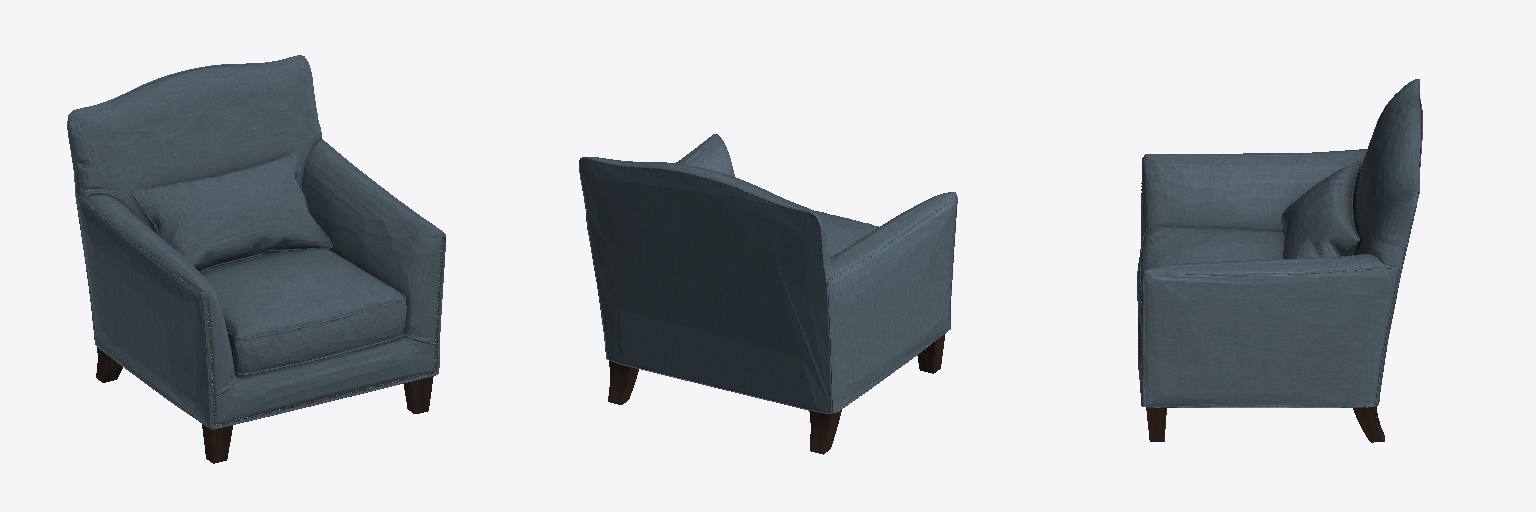
3 views of the same model, side by side, from view 1: azimuth 30°, elevation 25°; view 2: azimuth 150°, elevation 25°; view 3: azimuth 270°, elevation 25° (orthographic).
Visible parts, largest first — view 1: solid_002, solid_003, solid_004; view 2: solid_002, solid_003; view 3: solid_002, solid_003.
Boxes of the visible parts, <box> form: solid_002: <box>67,55,445,429</box>; solid_003: <box>96,347,433,463</box>; solid_004: <box>205,236,444,426</box>; solid_002: <box>579,134,957,413</box>; solid_003: <box>608,333,945,454</box>; solid_002: <box>1137,79,1422,407</box>; solid_003: <box>1146,406,1384,442</box>.
Size of the model in its own units: 1.3 by 1.35 by 1.3.
1 materials, 1 textured.